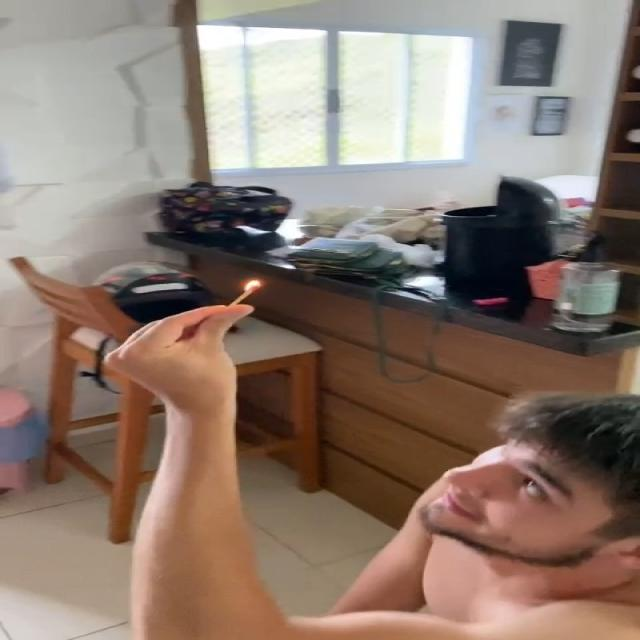fogo-ypXI: (242, 276, 264, 292)
